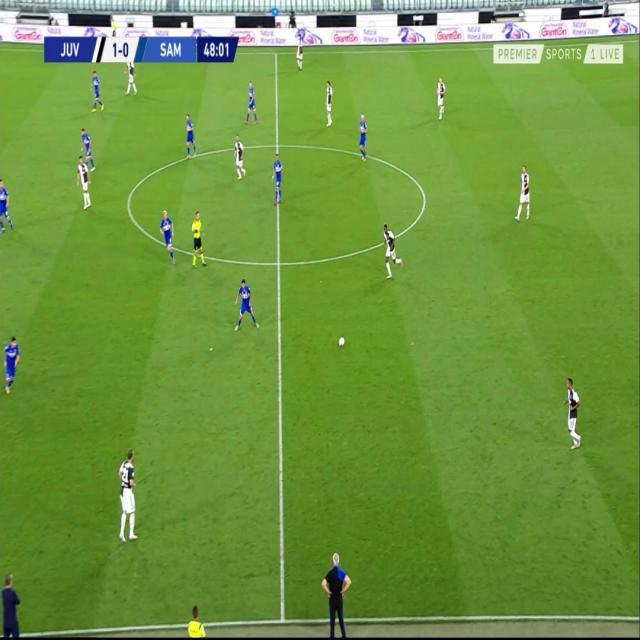ball: (338, 334, 346, 348)
player: (115, 445, 139, 546), (564, 373, 584, 452), (234, 277, 260, 334), (2, 333, 22, 396), (381, 221, 402, 281), (515, 163, 533, 223), (159, 207, 177, 264), (77, 154, 92, 213), (0, 176, 14, 236), (271, 151, 284, 206), (90, 69, 105, 115), (233, 134, 247, 182), (357, 112, 369, 165), (184, 113, 197, 160), (83, 127, 96, 172), (246, 79, 258, 124), (323, 79, 334, 128), (125, 58, 138, 97), (435, 75, 446, 121), (296, 37, 305, 72)
referee: (191, 209, 208, 269), (185, 602, 208, 638)
